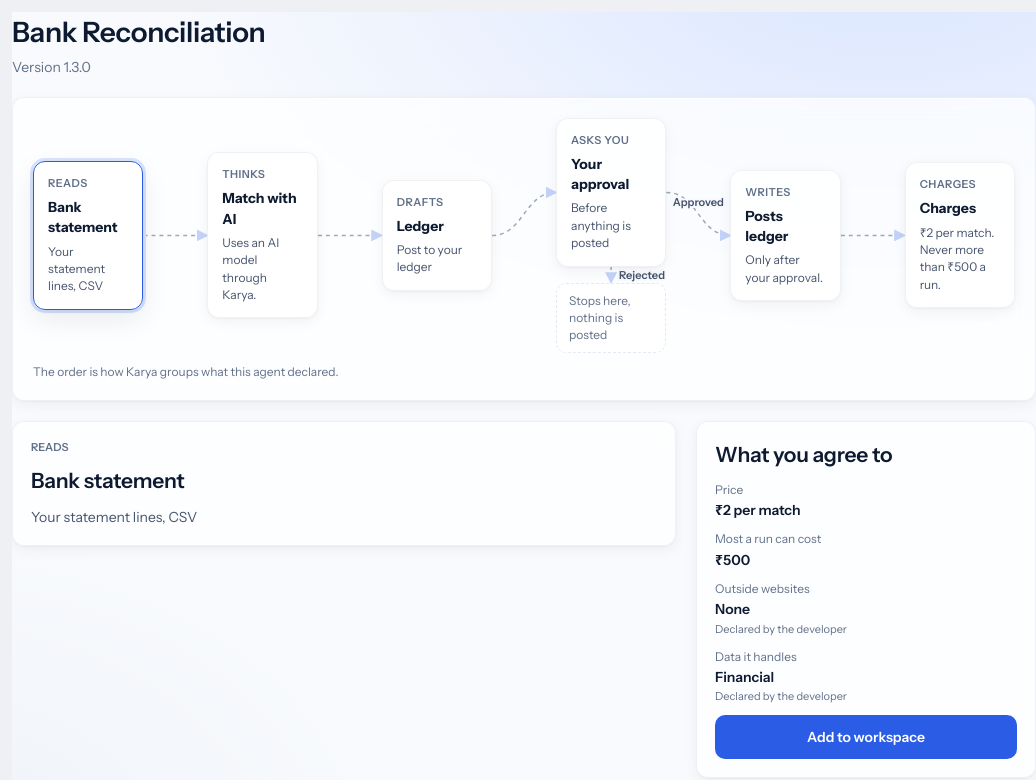
Test: shows the gate's wait and preview when selected
The image size is (1036, 780).
Click the button "Asks you Your approval Before anything is posted" at (611, 192), box [556,118,666,267]
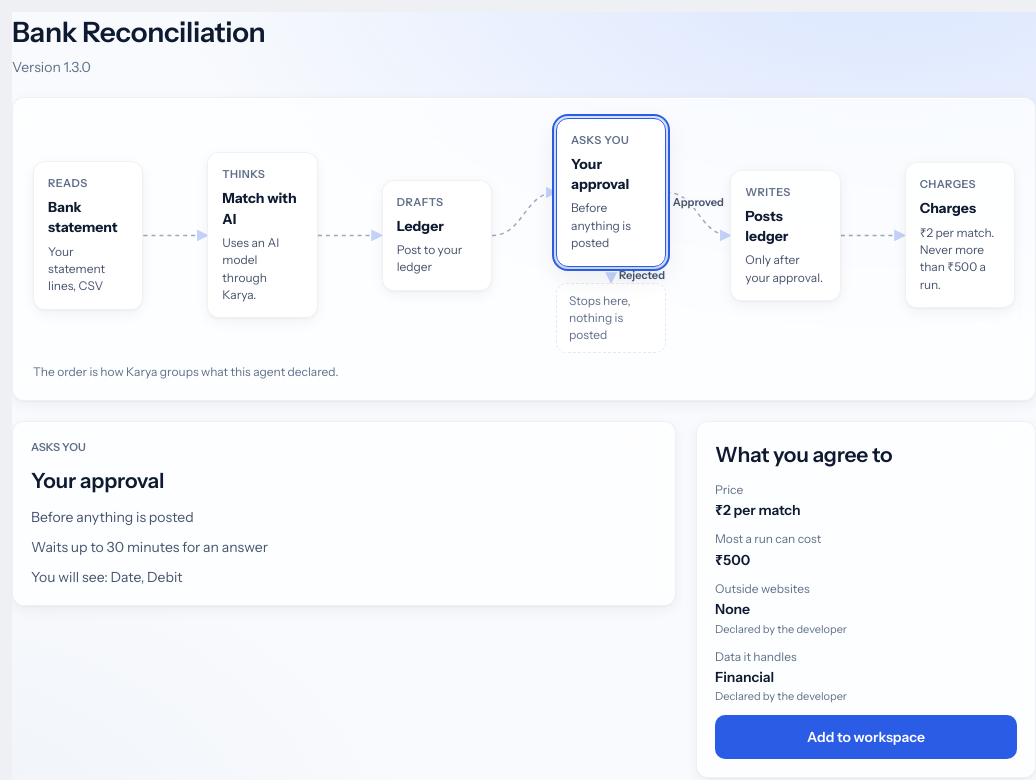
Check: the element named "Selected block" shows "Waits up to 30 minutes for an answer", box [31,538,268,556]
Check: the element named "Selected block" shows "You will see: Date, Debit", box [31,568,182,586]
Click the button "Writes Posts ledger Only after your approval." at (785, 235), box [730,170,841,301]
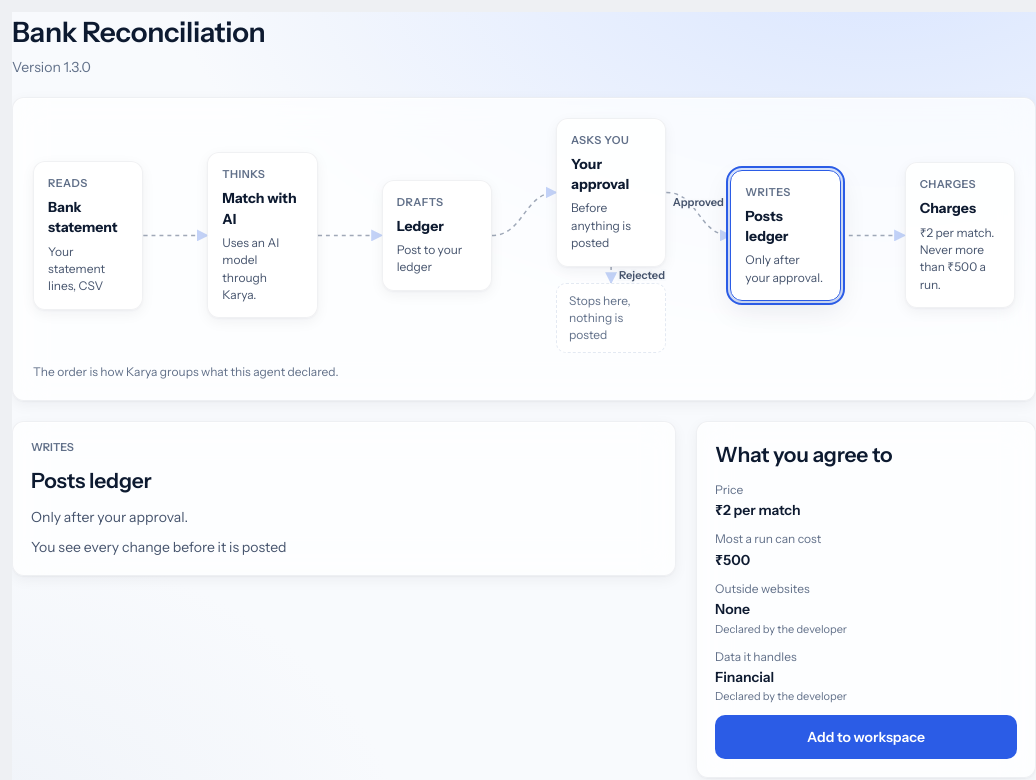
Check: the element named "Selected block" shows "You see every change before it is posted", box [31,538,287,556]
